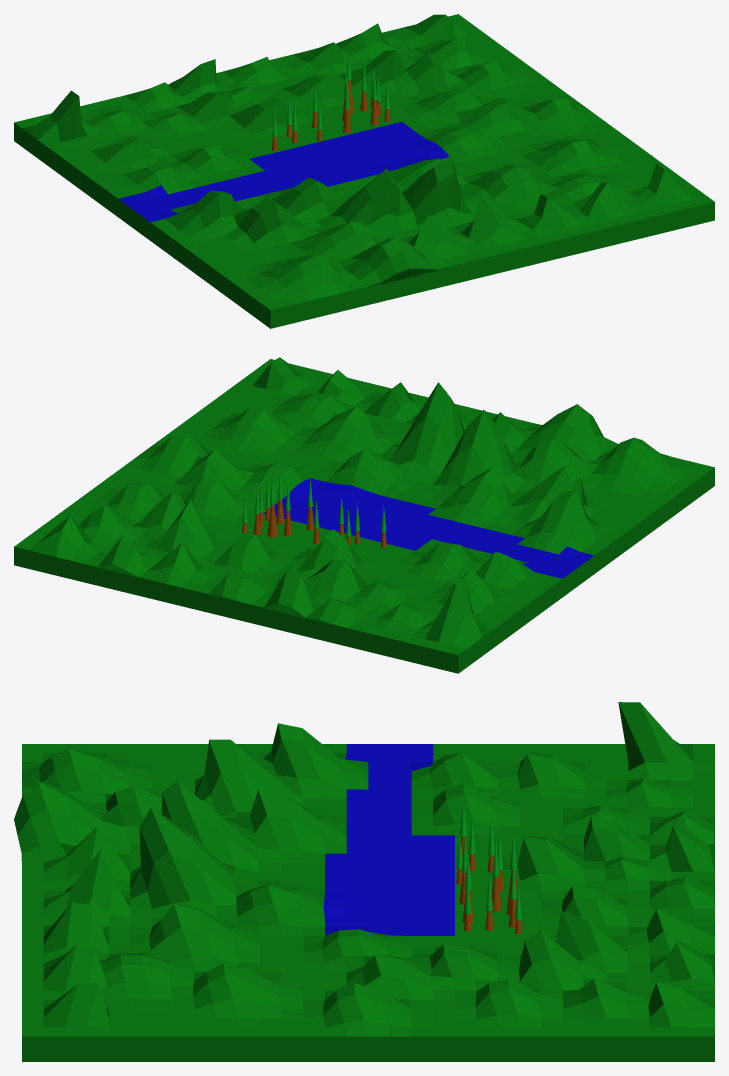
The model's file is background4.gltf.
3 renders of one model, top to bottom at view 1: azimuth 30°, elevation 25°; view 2: azimuth 150°, elevation 25°; view 3: azimuth 270°, elevation 25°, orthographic. The views are drawn at different scales.
Parts seen in each view (by area): view 1: Cube; view 2: Cube; view 3: Cube.
Boxes of the visible parts, bbox=[...] form: Cube: bbox=[14, 14, 714, 328]; Cube: bbox=[14, 357, 714, 673]; Cube: bbox=[14, 702, 714, 1061].
Size of the model in its own units: 10 by 1.87 by 10.11.
